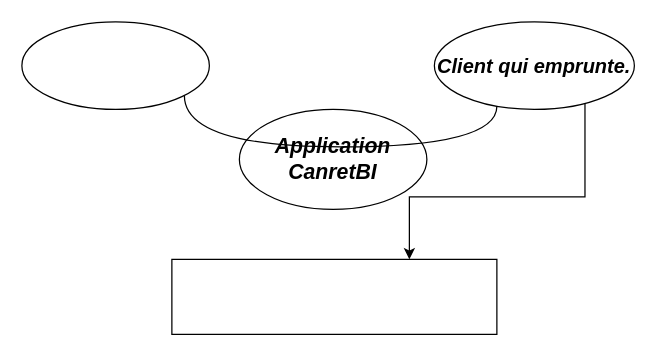
This 656x356 diagram has some shape labels left out. Here are the shapes that lost their labels. From the top down, the box of each, then its label:
(21, 21, 209, 109): Commerçant
(171, 258, 497, 334): Enregistrer et visualiser l'ensemble des prêts des clients.
